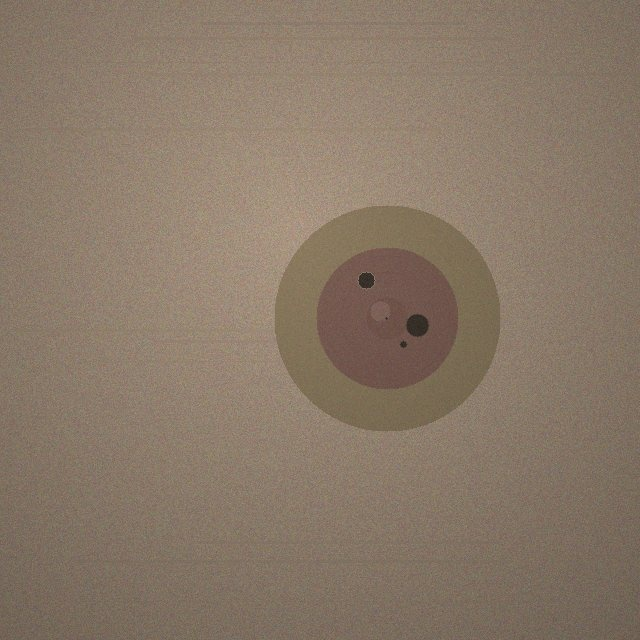shrinkage: (274, 205, 500, 431)
